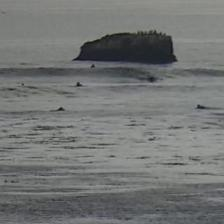surfer: (196, 104, 208, 110), (53, 106, 65, 112), (75, 82, 84, 87), (148, 76, 155, 82), (90, 64, 97, 68), (21, 82, 26, 86)
